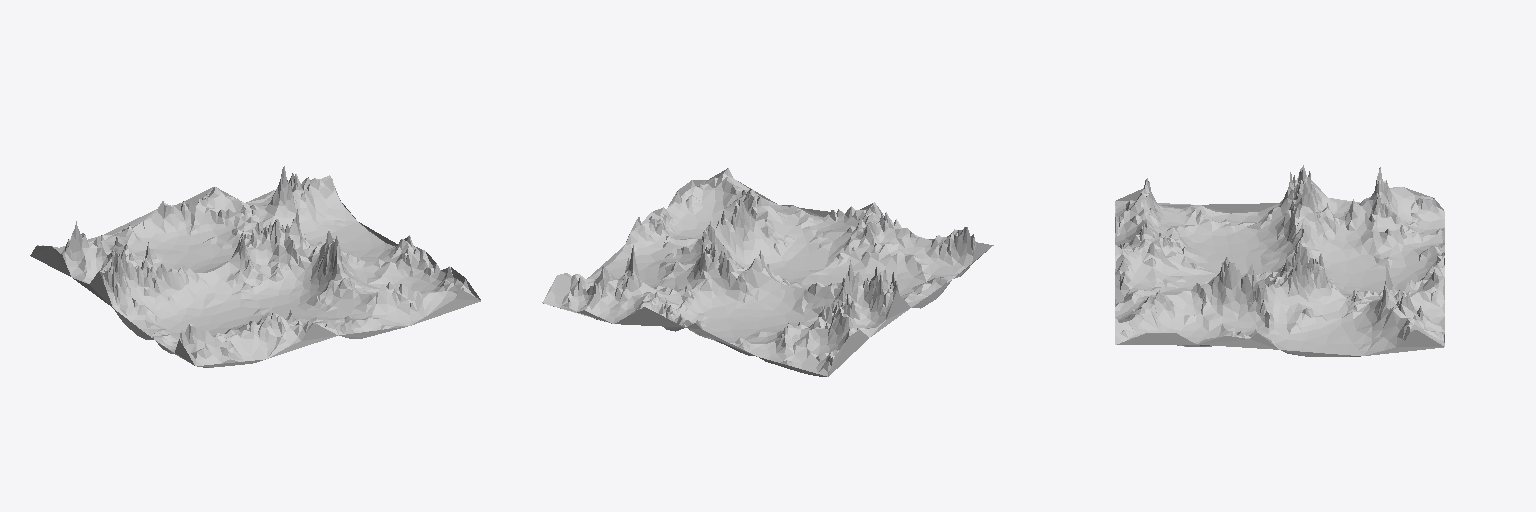
The model's file is mountains.obj.
The picture shows the model from 3 angles: view 1: azimuth 30°, elevation 25°; view 2: azimuth 150°, elevation 25°; view 3: azimuth 270°, elevation 25°; orthographic projection.
Visible parts, largest first — view 1: mountains; view 2: mountains; view 3: mountains.
Part boxes in pixels (left/top/right/bottom): mountains: left=30, top=166, right=480, bottom=367; mountains: left=542, top=168, right=993, bottom=376; mountains: left=1115, top=165, right=1444, bottom=356.
Size of the model in its own units: 160 by 34.19 by 160.